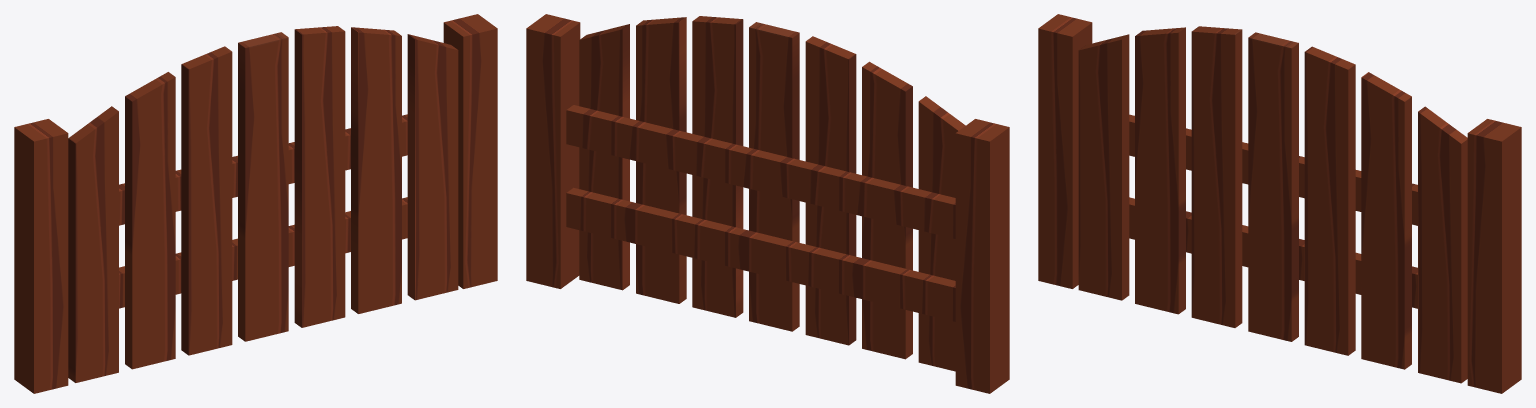
The model's file is Custom Door.fbx.
3 renders of one model, left to right at view 1: azimuth 30°, elevation 25°; view 2: azimuth 150°, elevation 25°; view 3: azimuth 330°, elevation 25°, orthographic.
Visible parts, largest first — view 1: Fence_Type2_01_mesh; view 2: Fence_Type2_01_mesh; view 3: Fence_Type2_01_mesh.
Boxes of the visible parts, left/top/right/bottom form: Fence_Type2_01_mesh: left=14, top=14, right=497, bottom=393; Fence_Type2_01_mesh: left=526, top=14, right=1009, bottom=393; Fence_Type2_01_mesh: left=1038, top=14, right=1521, bottom=393.
Size of the model in its own units: 266 by 162 by 20.36.
Materials: 1 (1 with a texture image).
